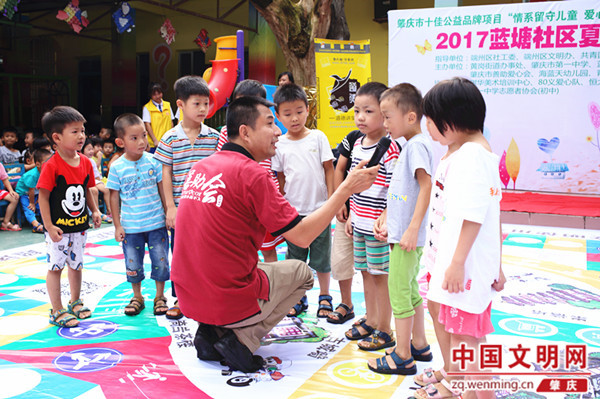handsup: (177, 92, 384, 371)
other: (419, 66, 524, 398), (29, 97, 110, 332), (375, 81, 433, 384), (108, 111, 179, 320)
